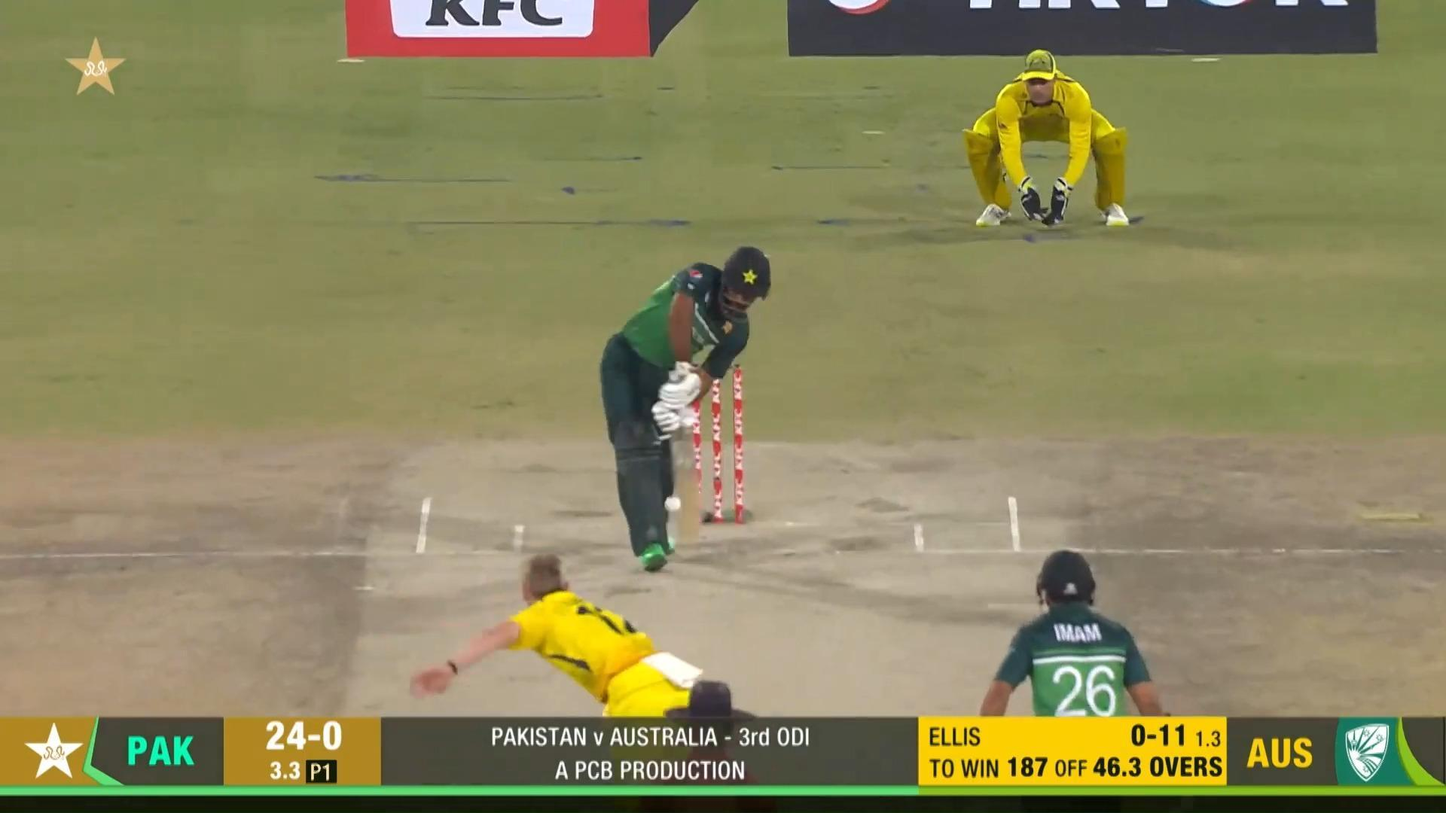BM 1: (601, 245, 771, 572)
BO: (412, 550, 703, 718)
